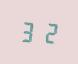three: (19, 18, 37, 43)
two: (38, 19, 56, 44)
